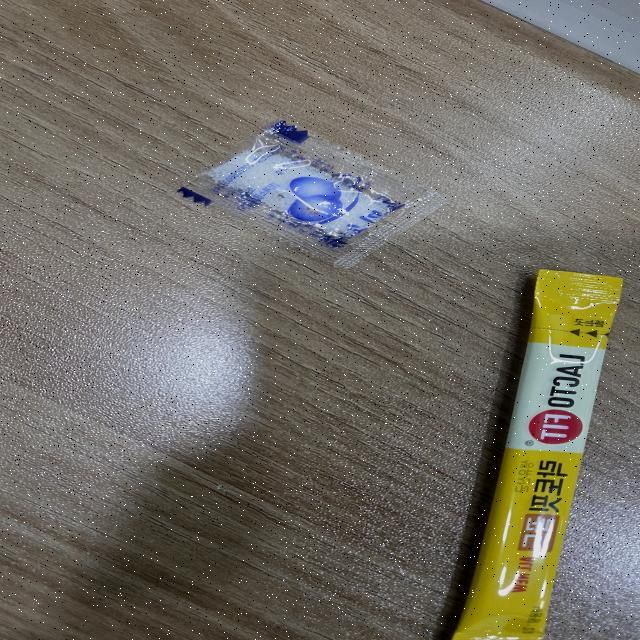lacto: (448, 270, 624, 640)
salt: (174, 114, 452, 264)
